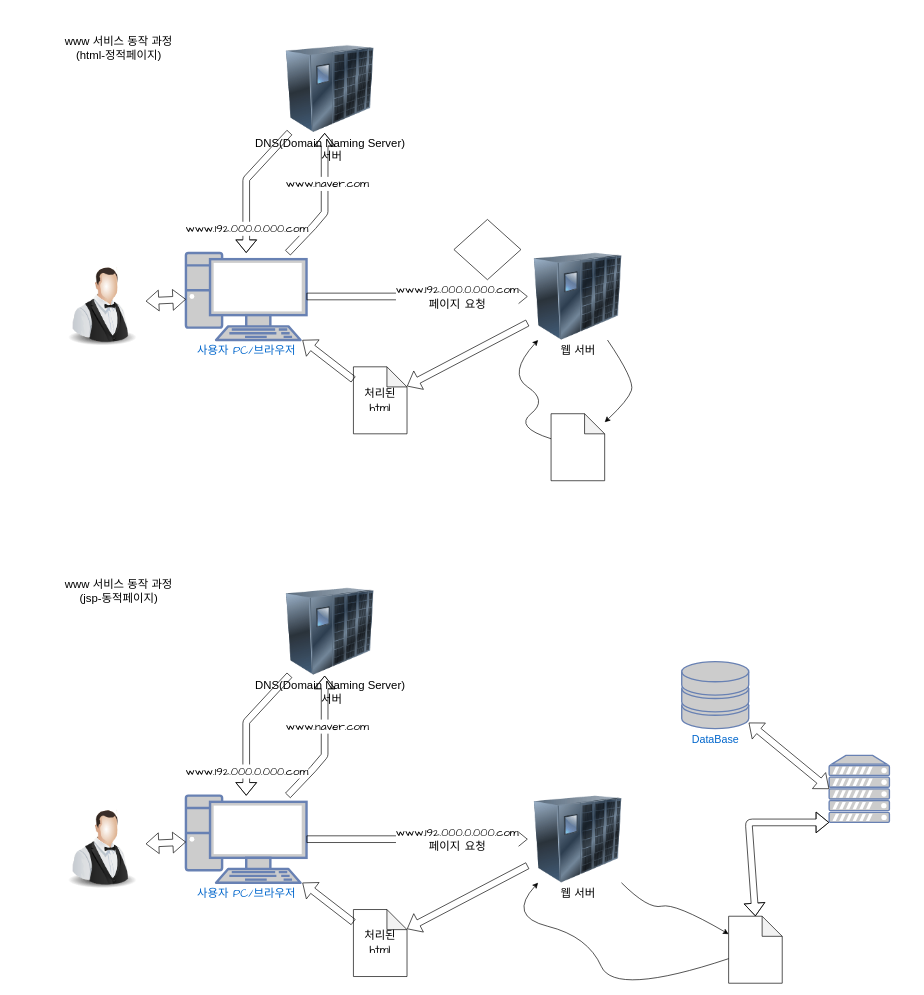
This 924x995 diagram has some shape labels left out. The shapes that lost their labels are listed below. From the top down, each one's box as (x1, y1, x2, y2) in pixels, then its label:
(453, 219, 521, 280): 포트번호 포함
(550, 413, 605, 481): naver.com (html)
(828, 754, 890, 823): JSP 컨테이너(TOMCAT)
(728, 916, 782, 983): naver.com (jsp)
